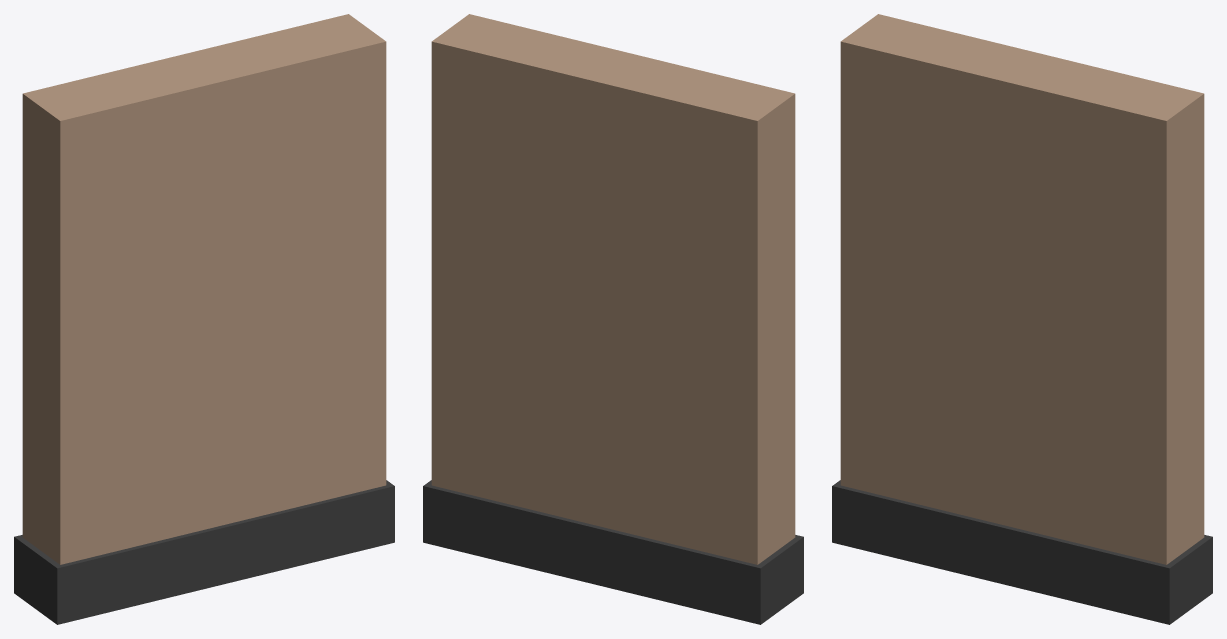
Rendered from Wall_02.glb.
3 views of the same model, side by side, from view 1: azimuth 30°, elevation 25°; view 2: azimuth 150°, elevation 25°; view 3: azimuth 330°, elevation 25° (orthographic).
Visible parts, largest first — view 1: Wall_02; view 2: Wall_02; view 3: Wall_02.
Boxes of the visible parts, x1,y1,x2,y2 form: Wall_02: [14, 14, 394, 624]; Wall_02: [423, 14, 803, 624]; Wall_02: [832, 14, 1212, 624].
Size of the model in its own units: 1.55 by 2.2 by 0.3441.
Materials: 1 (1 with a texture image).
